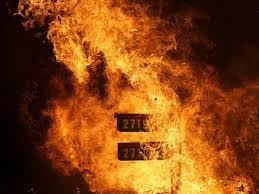fire: (22, 5, 252, 179)
